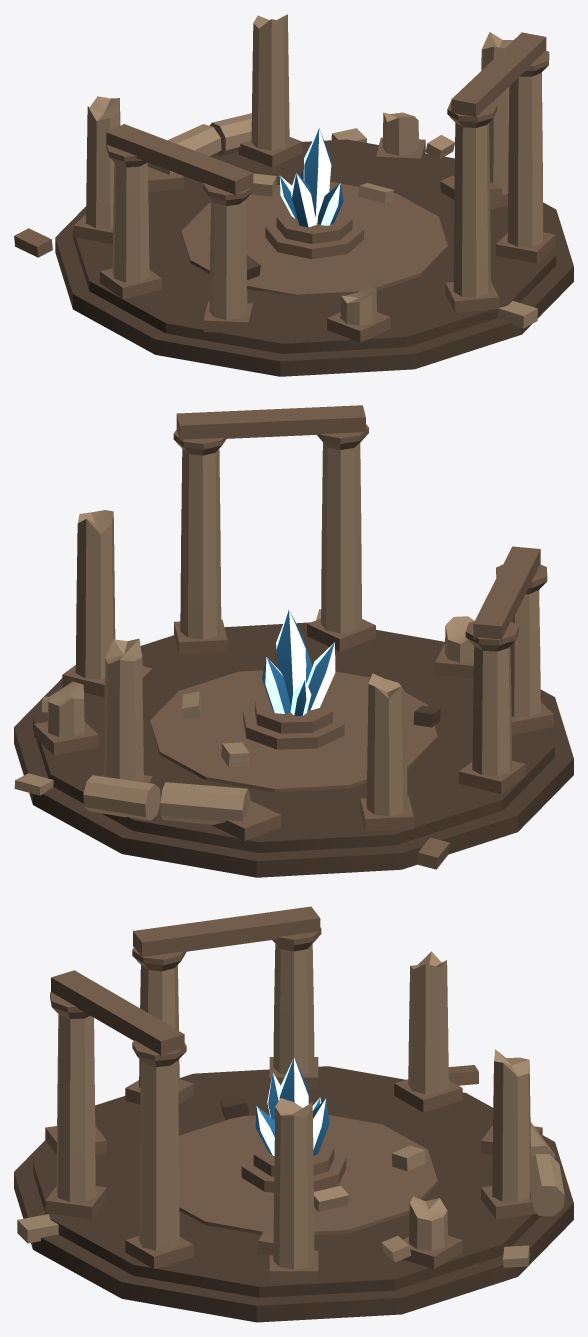
File: ruina-submersa.glb
3 renders of one model, top to bottom at view 1: azimuth 30°, elevation 25°; view 2: azimuth 150°, elevation 25°; view 3: azimuth 270°, elevation 25°, orthographic. The views are drawn at different scales.
Parts seen in each view (by area): view 1: ruina_pedra, ruina_cristais; view 2: ruina_pedra, ruina_cristais; view 3: ruina_pedra, ruina_cristais.
Boxes of the visible parts, x1,y1,x2,y2 form: ruina_pedra: (14, 14, 573, 376); ruina_cristais: (279, 128, 343, 227); ruina_pedra: (14, 405, 573, 877); ruina_cristais: (262, 609, 335, 716); ruina_pedra: (14, 906, 573, 1322); ruina_cristais: (255, 1058, 329, 1155).
Size of the model in its own units: 73.36 by 36.48 by 73.36.
